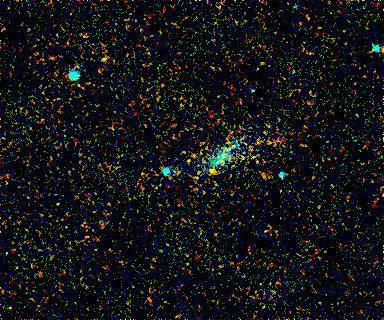star: (198, 155, 228, 185)
